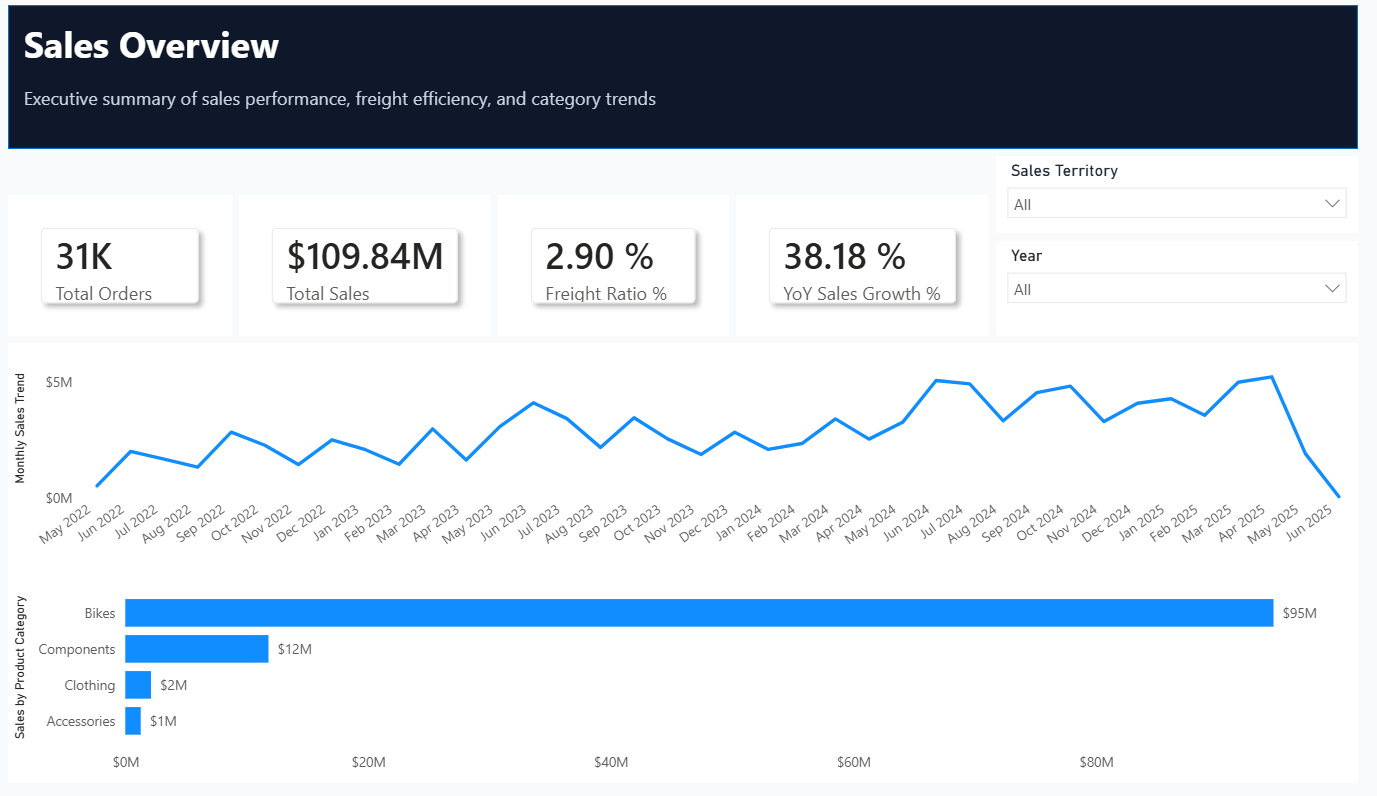

What the dashboard file says about the page in this screenshot:
{"tool":"powerbi","page":{"name":"\tSales Overview","canvas":[1280,720],"ordinal":0},"visuals":[{"type":"cardVisual","fields":{"Data":["Sales SalesOrderHeader.Total Orders"]},"box":[17.7,178.2,198.6,125],"z":0},{"type":"cardVisual","fields":{"Data":["Sales SalesOrderHeader.Total Sales"]},"box":[222.6,178.2,223.4,125],"z":1000},{"type":"cardVisual","fields":{"Data":["Sales SalesOrderHeader.YoY Sales Growth %"]},"box":[663.3,178.2,224.3,125],"z":2000},{"type":"lineChart","fields":{"Y":["Sales SalesOrderHeader.Total Sales"],"Category":["DimDate.AñoMes"]},"box":[17.7,309.5,1197,201.3],"z":3000},{"type":"barChart","fields":{"Category":["DimProduct.CategoryName"],"Y":["Sales SalesOrderHeader.Total Sales"]},"box":[17.7,510.7,1197,188.9],"z":4000},{"type":"slicer","fields":{"Values":["Sales SalesTerritory.Name"]},"box":[893.8,143.6,321,68.3],"z":5000},{"type":"cardVisual","fields":{"Data":["Sales SalesOrderHeader.Freight Ratio %"]},"box":[452.2,178.2,204.8,125],"z":6000},{"type":"shape","box":[17.7,9.8,1197,127.7],"z":7000},{"type":"textbox","box":[26.6,16.8,892,126.8],"z":8000},{"type":"slicer","fields":{"Values":["DimDate.Year"]},"box":[893.8,219,321,84.2],"z":8001}]}

Visuals, with their boxes in screenshot pixels (x1, y1, x2, y2), scaled from the page's 1280x720 canvas onto the 1377x796 screenshot:
cardVisual - Sales SalesOrderHeader.Total Orders: {"x1": 19, "y1": 197, "x2": 233, "y2": 335}
cardVisual - Sales SalesOrderHeader.Total Sales: {"x1": 239, "y1": 197, "x2": 480, "y2": 335}
cardVisual - Sales SalesOrderHeader.YoY Sales Growth %: {"x1": 714, "y1": 197, "x2": 955, "y2": 335}
lineChart - Sales SalesOrderHeader.Total Sales x DimDate.AñoMes: {"x1": 19, "y1": 342, "x2": 1307, "y2": 565}
barChart - DimProduct.CategoryName x Sales SalesOrderHeader.Total Sales: {"x1": 19, "y1": 565, "x2": 1307, "y2": 773}
slicer - Sales SalesTerritory.Name: {"x1": 962, "y1": 159, "x2": 1307, "y2": 234}
cardVisual - Sales SalesOrderHeader.Freight Ratio %: {"x1": 486, "y1": 197, "x2": 707, "y2": 335}
shape: {"x1": 19, "y1": 11, "x2": 1307, "y2": 152}
textbox: {"x1": 29, "y1": 19, "x2": 988, "y2": 159}
slicer - DimDate.Year: {"x1": 962, "y1": 242, "x2": 1307, "y2": 335}
